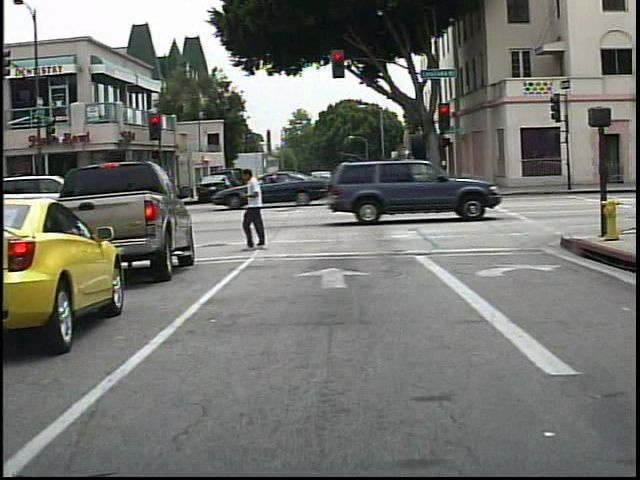person: (237, 166, 278, 251), (269, 165, 297, 208)
